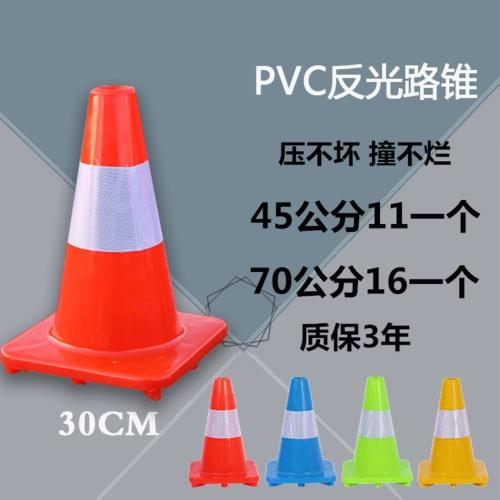cone_barrel: (39, 91, 198, 362), (185, 377, 256, 485), (418, 374, 486, 486), (342, 372, 408, 485), (266, 372, 330, 485)
